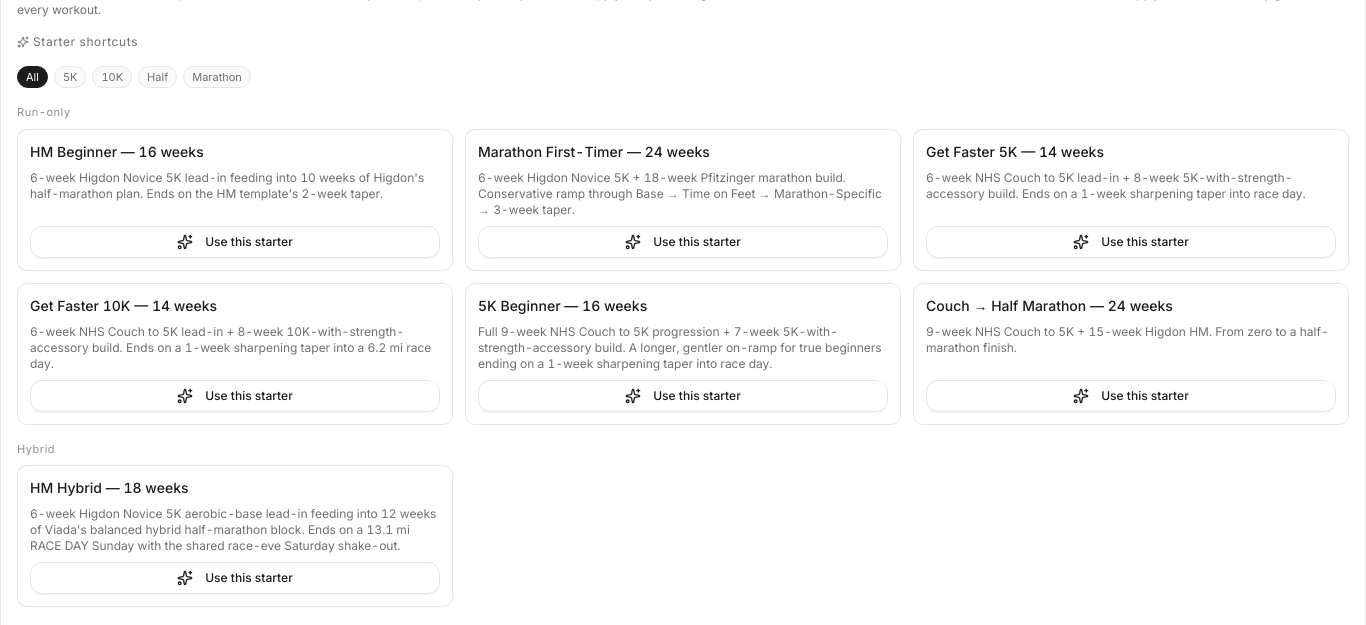
Planner template library (entries-mode) › applying a one-click starter loads its full multi-entry composition
The image size is (1366, 625).
(page scrolled)
Click the button with test id "planner-starter-apply-hm_beginner_16w".
click(235, 242)  # box [30,226,440,258]
(page scrolled)
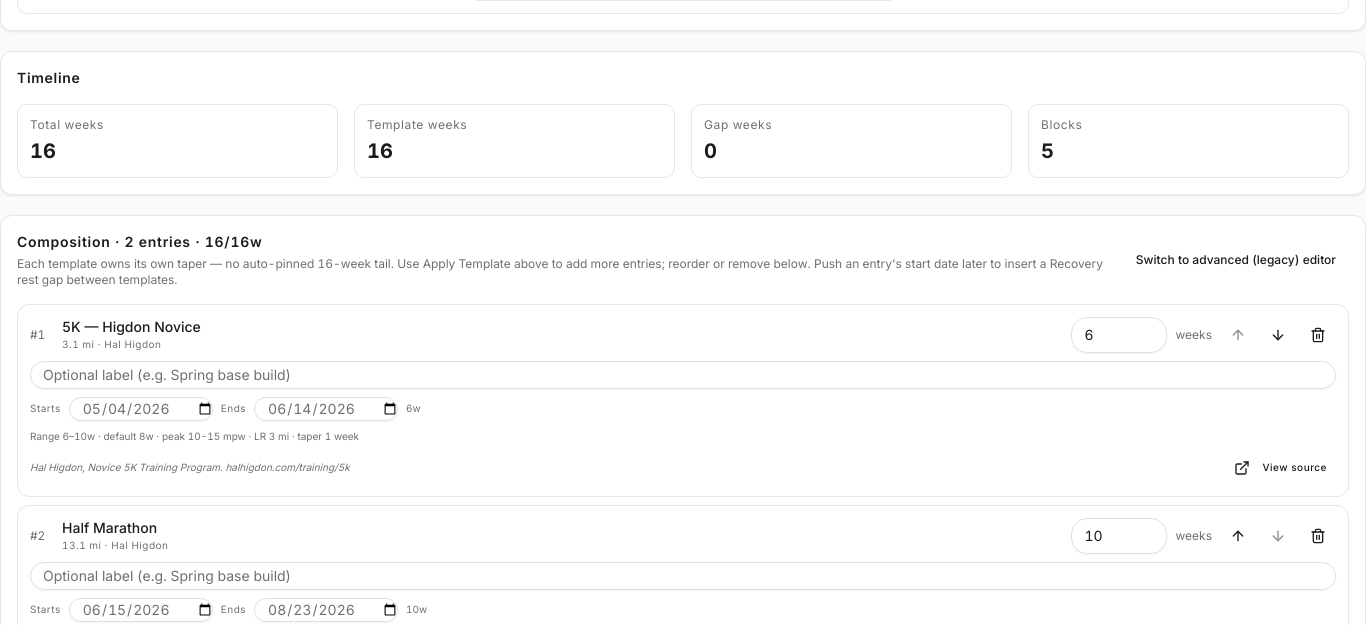
Check: the list item with test id "planner-entry-0" is shown, box [17,304,1349,496]
Check: the number field with test id "planner-entry-0-weeks" holds "6", box [1072,316,1168,352]
Check: the number field with test id "planner-entry-1-weeks" holds "10", box [1072,518,1168,554]
